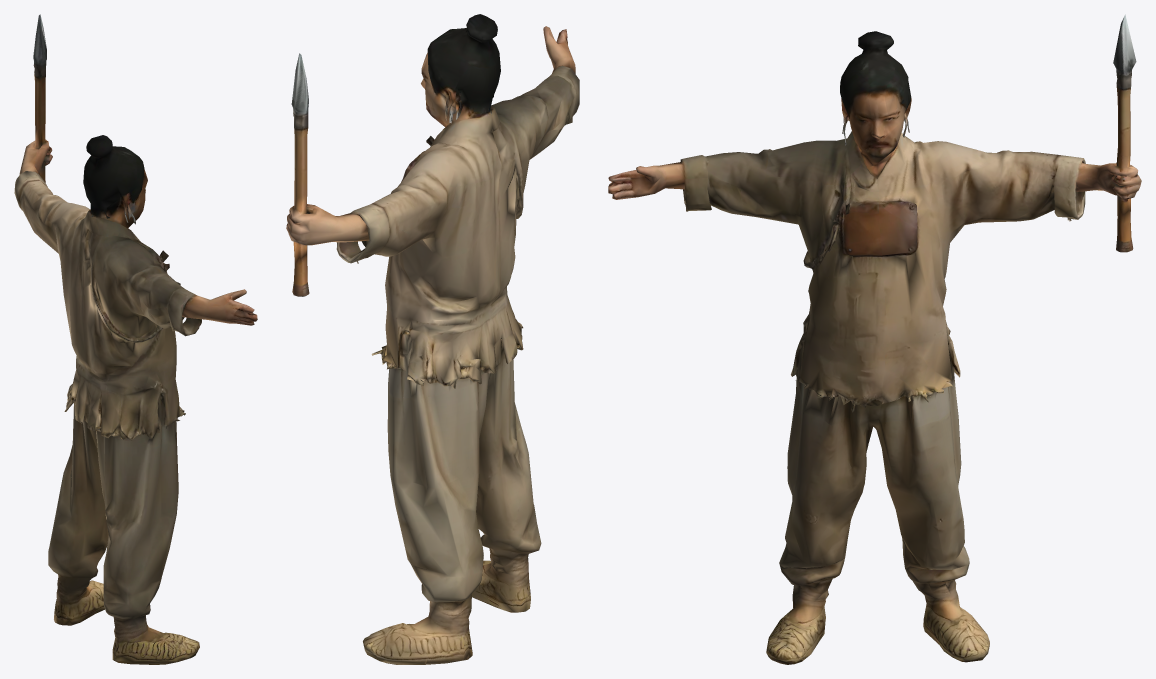
File: villager.glb
The picture shows the model from 3 angles, left to right: view 1: azimuth 30°, elevation 25°; view 2: azimuth 150°, elevation 25°; view 3: azimuth 270°, elevation 25°; orthographic projection. The views are drawn at different scales.
Visible parts, largest first — view 1: tripo_node_4afd4a2b-088b-46a9-bc0b-6d01328e0234; view 2: tripo_node_4afd4a2b-088b-46a9-bc0b-6d01328e0234; view 3: tripo_node_4afd4a2b-088b-46a9-bc0b-6d01328e0234.
Part boxes in pixels (x1,y1,x2,y2): tripo_node_4afd4a2b-088b-46a9-bc0b-6d01328e0234: [14, 14, 257, 664]; tripo_node_4afd4a2b-088b-46a9-bc0b-6d01328e0234: [286, 14, 579, 664]; tripo_node_4afd4a2b-088b-46a9-bc0b-6d01328e0234: [608, 14, 1141, 664].
Bounding box in the file's own units: 0.1763 × 0.9976 × 0.7466.
Materials: 1 (1 with a texture image).
